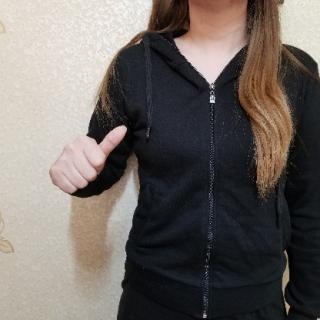ALIF: (45, 120, 131, 198)
